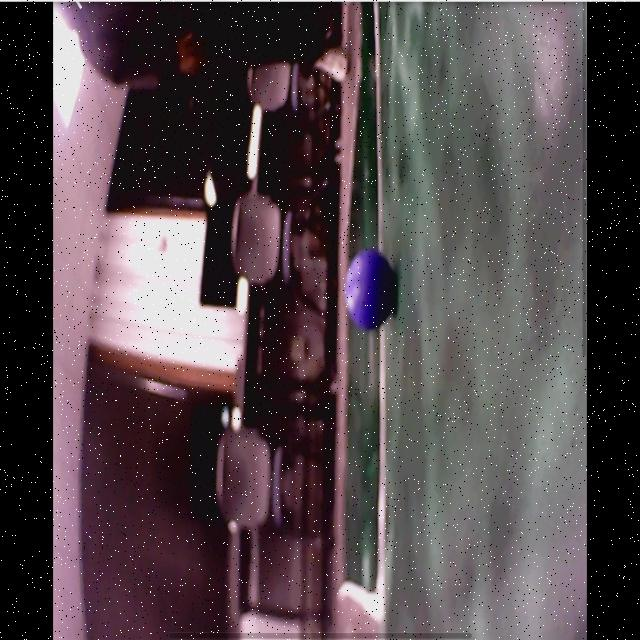ball: (348, 251, 393, 331)
